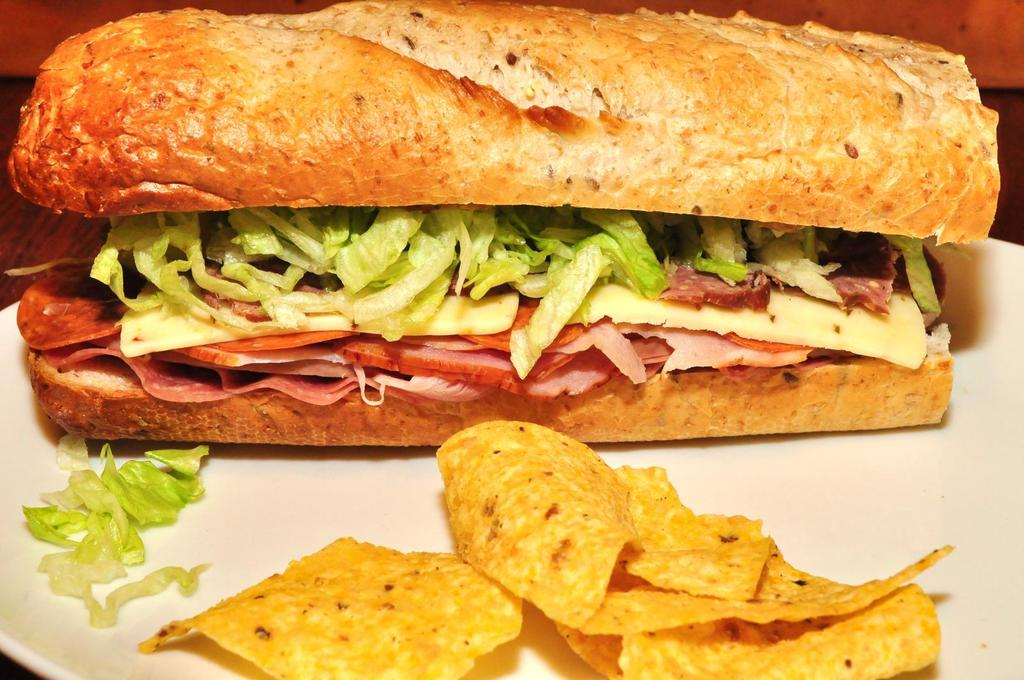Hamburger: (11, 0, 997, 443)
